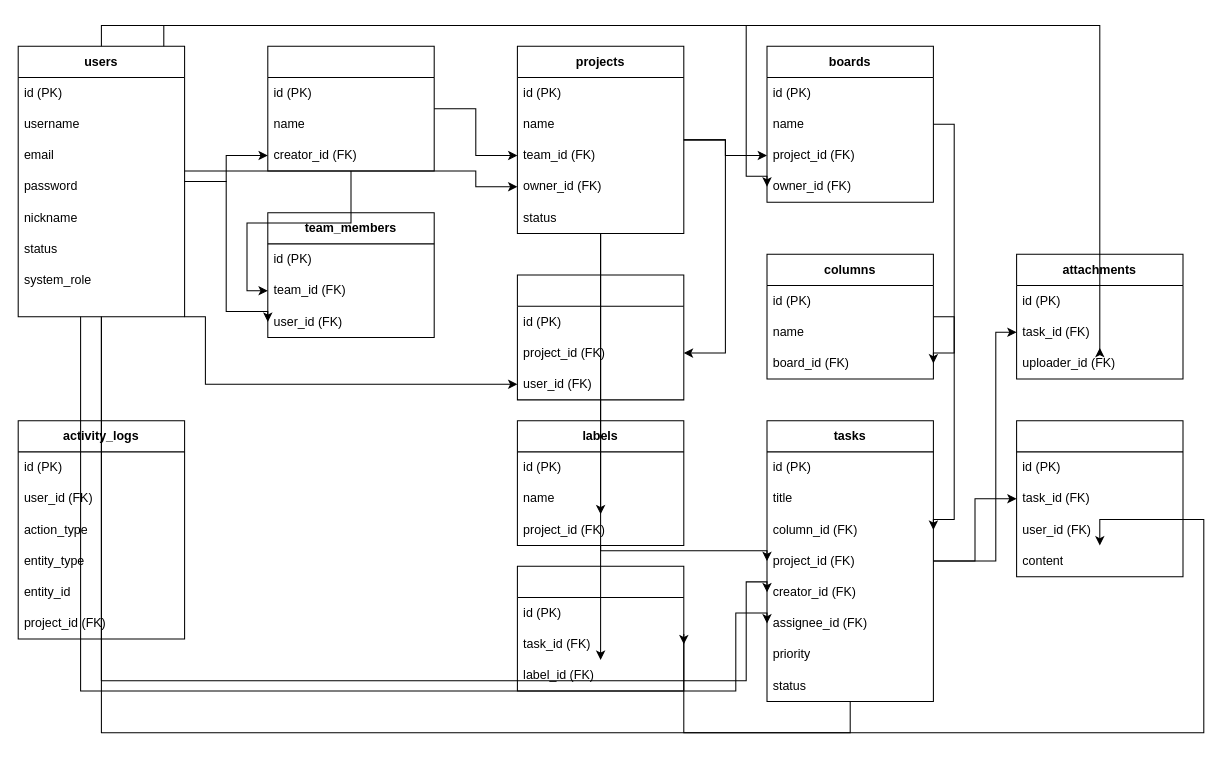
Image size: 1230x759. Some labels were removed from this diagram. Here are the shapes that lost their labels. From the top down, the box of each, then its label:
(267, 45, 434, 171): teams
(516, 274, 684, 400): project_members
(1016, 420, 1183, 577): comments
(516, 565, 684, 691): task_labels
